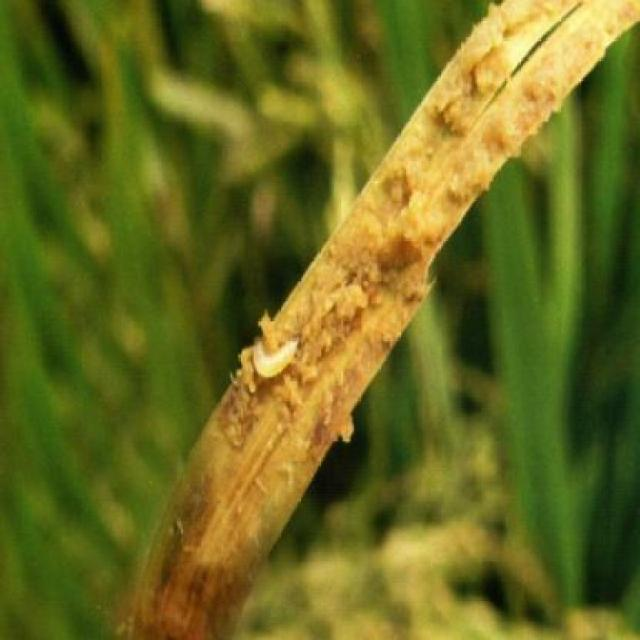whorl-maggot: (242, 332, 307, 391)
